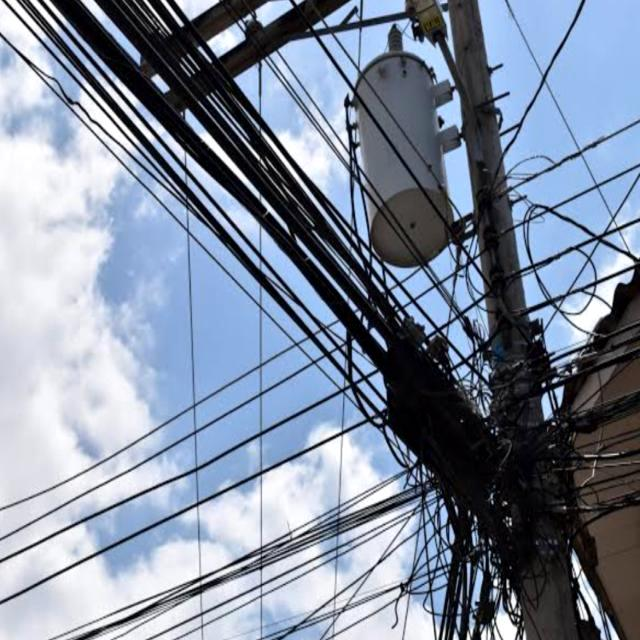Broken Pole: (338, 0, 618, 640)
